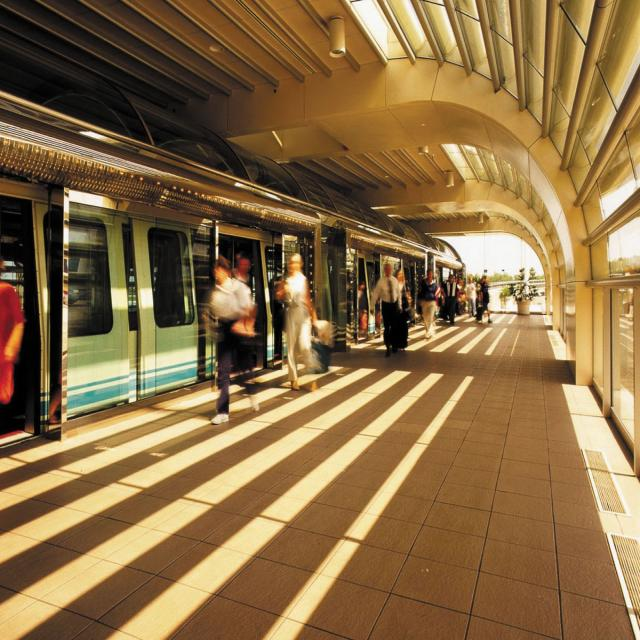body: (208, 258, 252, 425), (274, 253, 322, 392), (0, 261, 27, 433), (228, 252, 258, 369), (369, 261, 403, 359), (443, 269, 495, 327), (391, 266, 414, 346), (418, 266, 442, 340), (347, 262, 367, 341), (443, 272, 460, 328), (405, 272, 418, 332)
